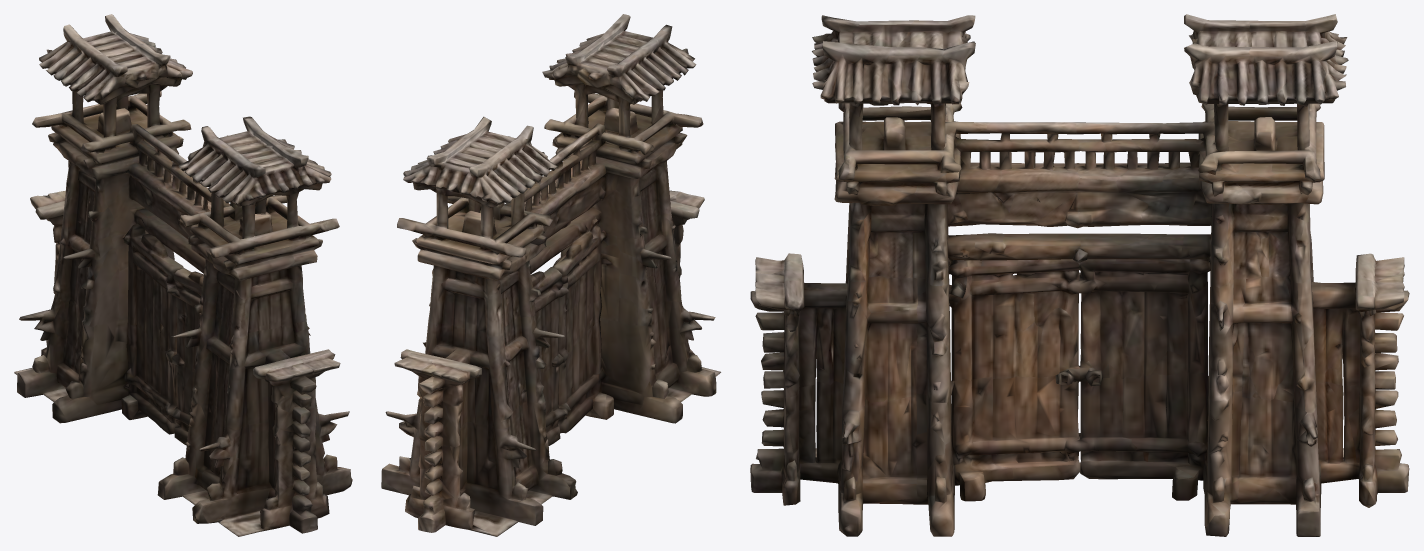
Rendered from gatehouse-low.glb.
The picture shows the model from 3 angles, left to right: view 1: azimuth 30°, elevation 25°; view 2: azimuth 150°, elevation 25°; view 3: azimuth 270°, elevation 25°; orthographic projection. The views are drawn at different scales.
Size of the model in its own units: 0.3576 by 0.7715 by 0.9996.
Materials: 1 (1 with a texture image).
